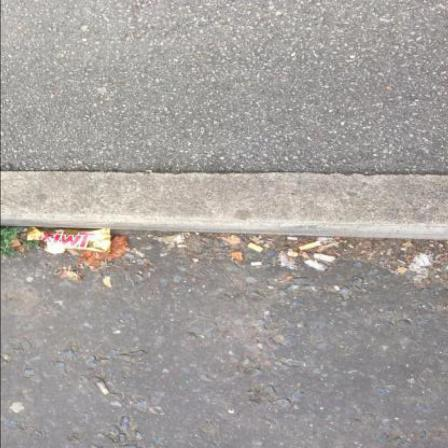Cigarette: (305, 260, 329, 272), (95, 379, 111, 397), (300, 241, 324, 250), (315, 254, 337, 263), (247, 243, 263, 253), (251, 263, 263, 267), (288, 238, 299, 242)
Plastic bag - wrapper: (27, 229, 111, 256)
